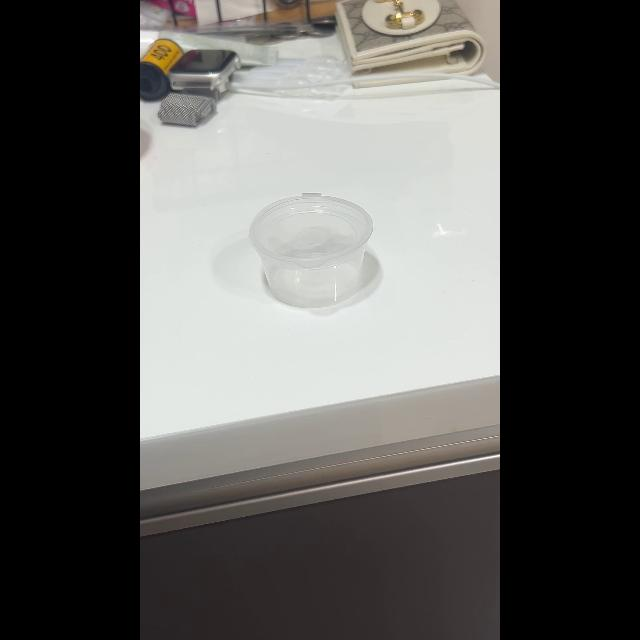clean: (250, 189, 376, 307)
